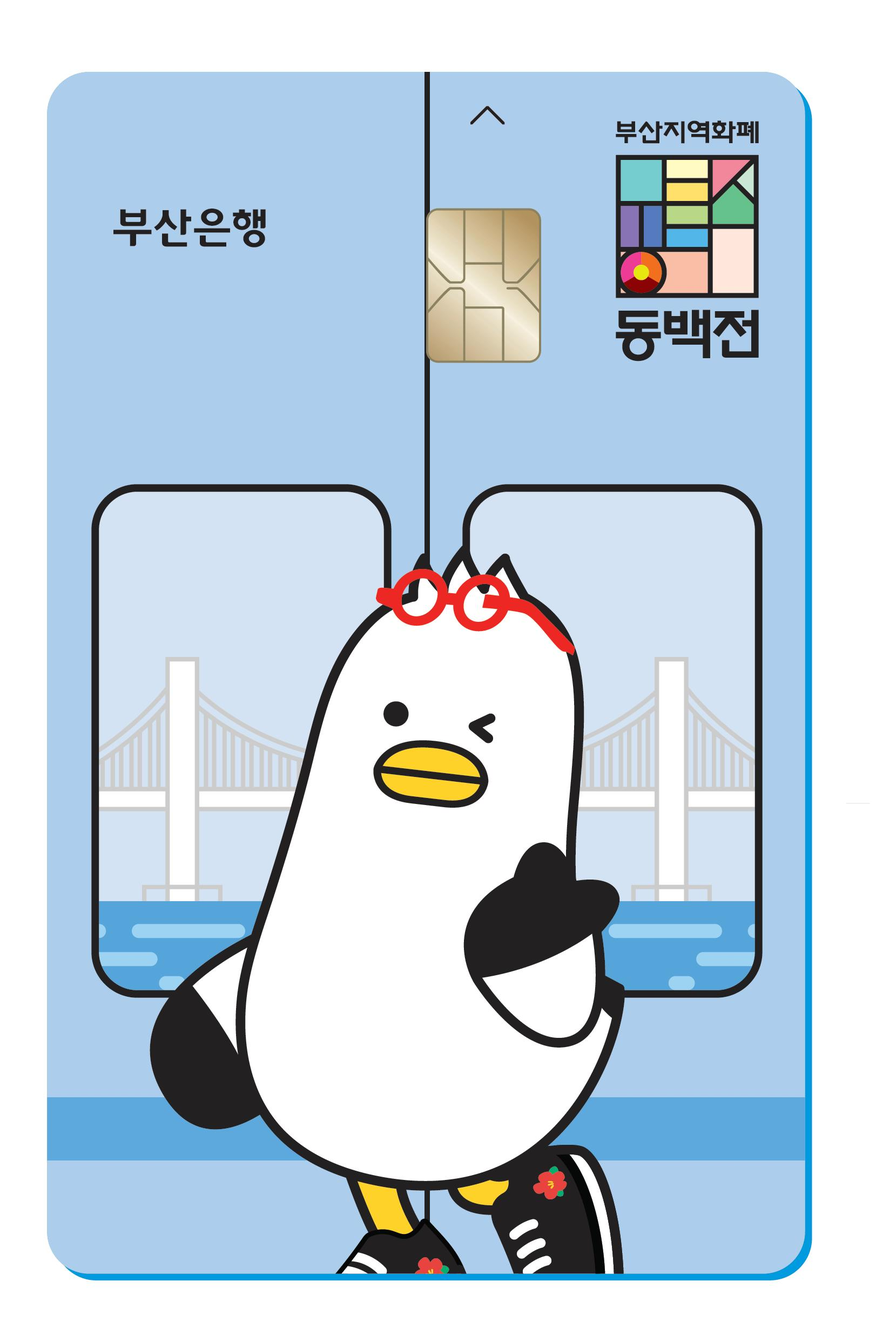Credit_card: (48, 75, 814, 1285)
